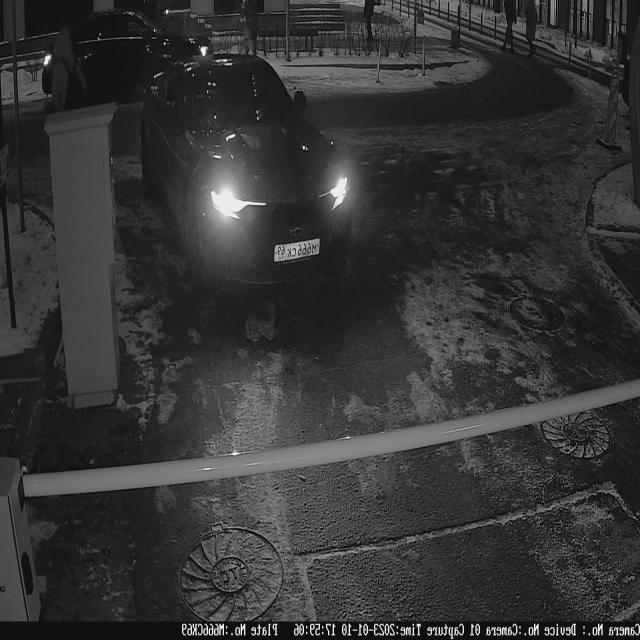car-plate-numbers: (273, 235, 323, 267)
